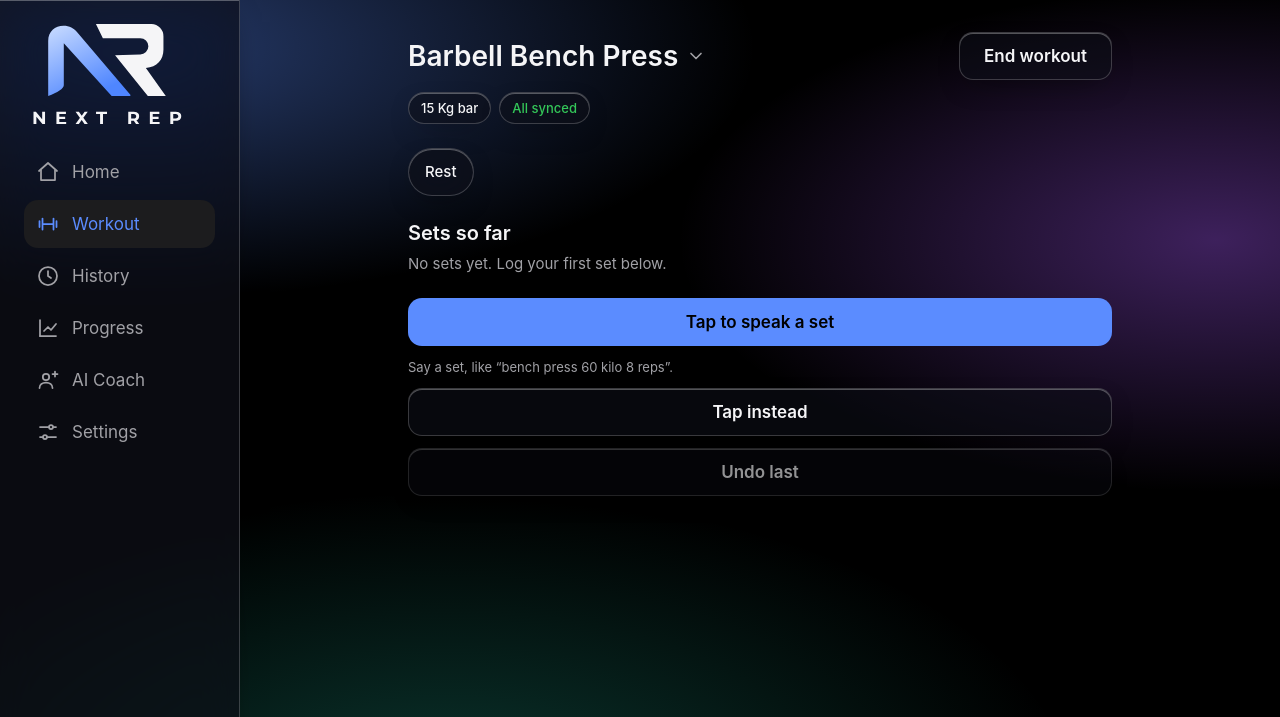
Test: a spoken set with a number missing › takes a typed weight, and offers no last weight when there is none
Click the button "Tap to speak a set" at point(760, 322), box [408, 298, 1112, 346]
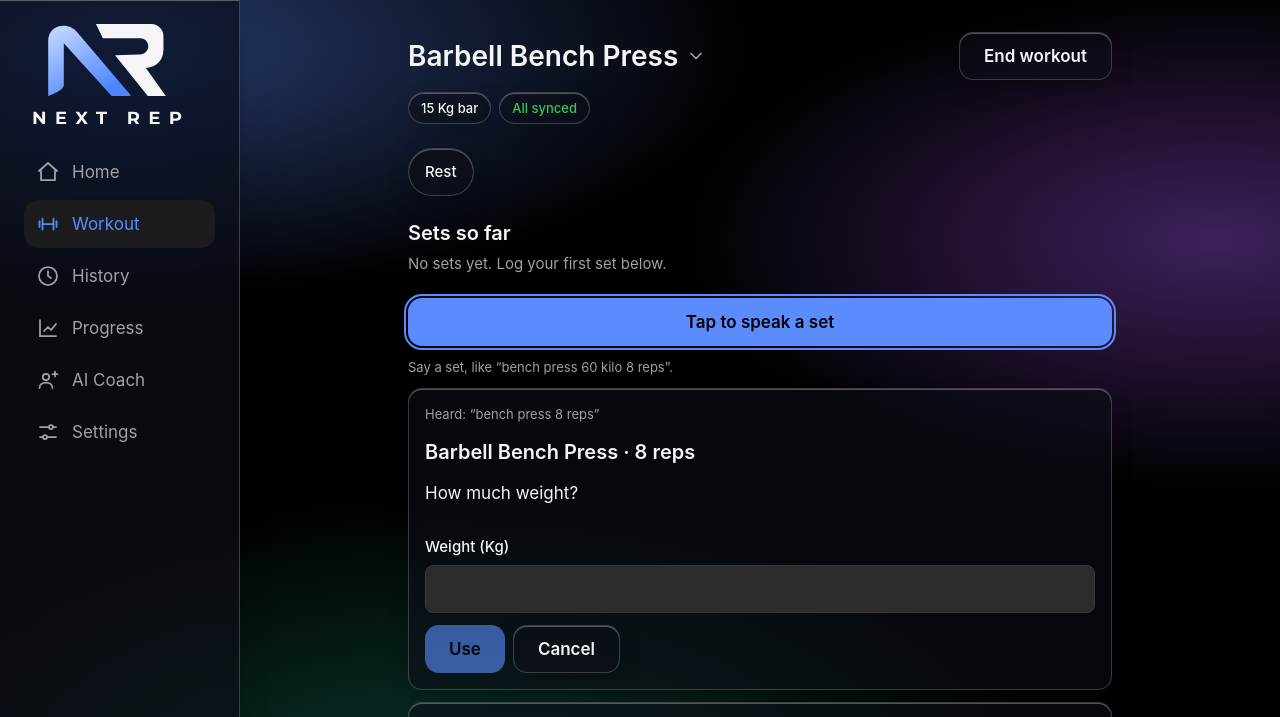
Type "heavy" into the field labelled "Weight (Kg)" at point(760, 589), box [425, 565, 1095, 613]
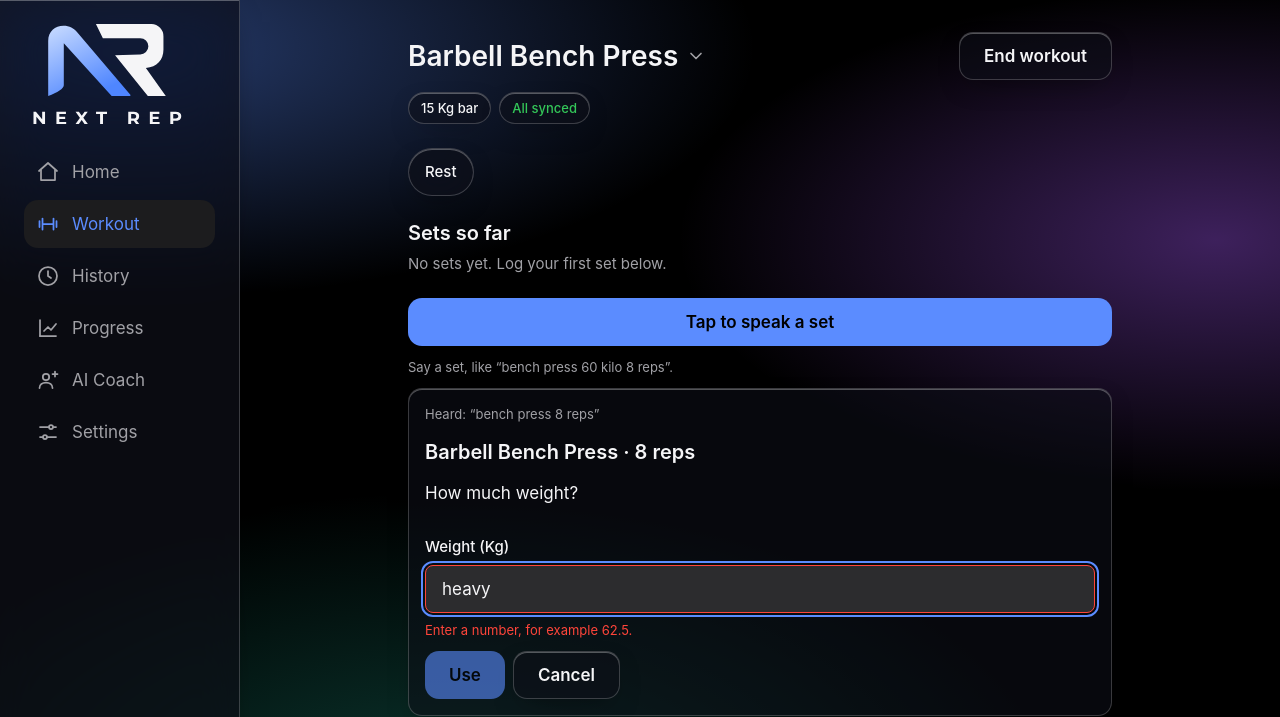
Check: the button "Use" is disabled, box [425, 651, 505, 699]
Replace the text in the field labelled "Weight (Kg)" with "62.5" at point(760, 589), box [425, 565, 1095, 613]
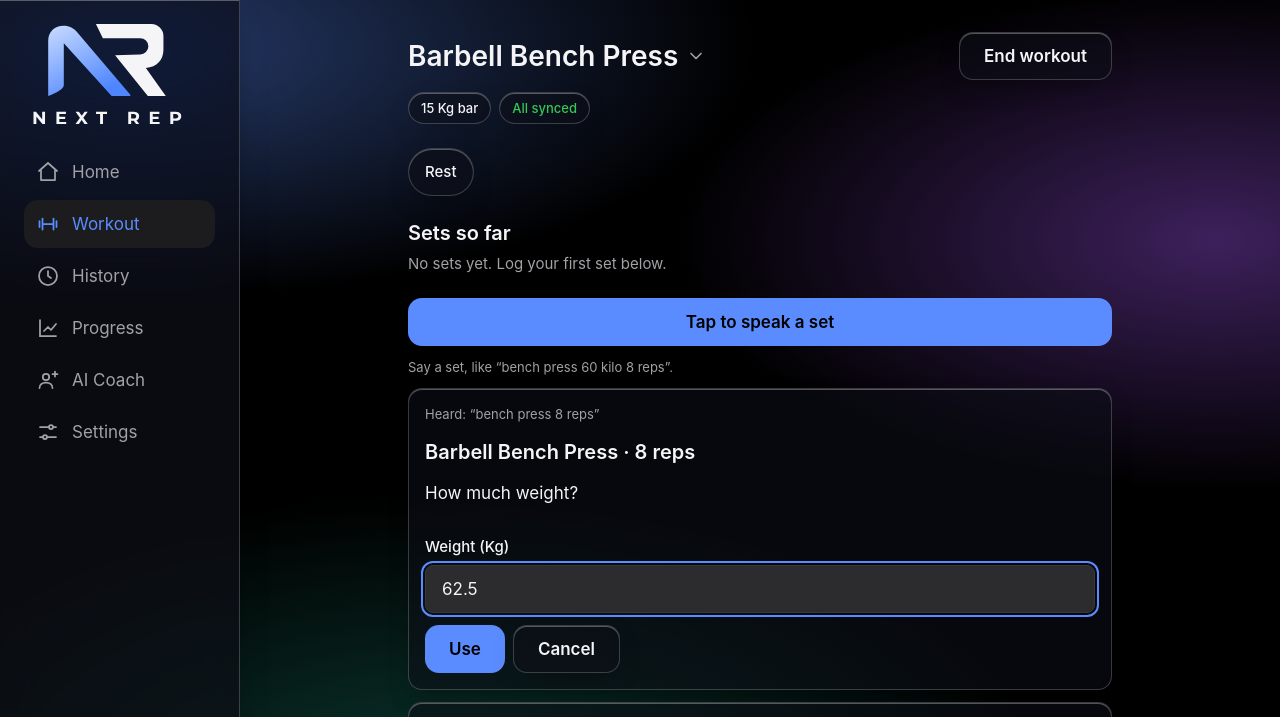
Click the button "Use" at point(465, 649), box [425, 625, 505, 673]
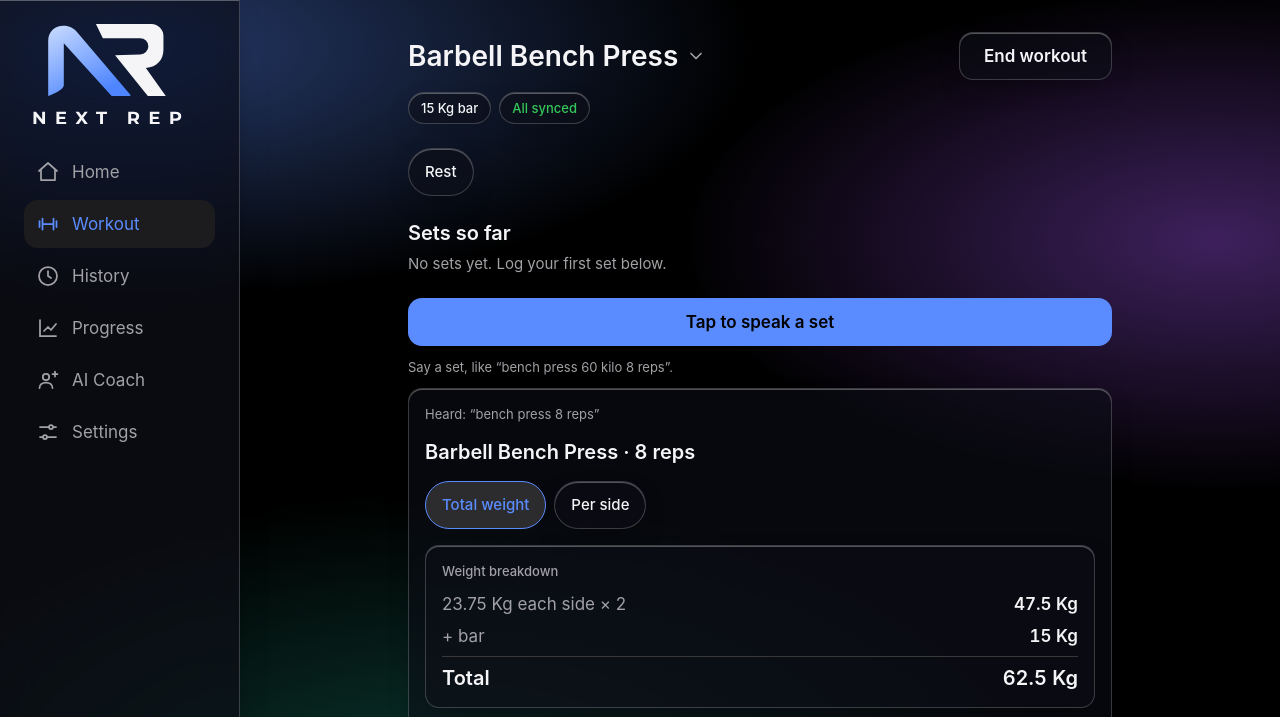
Check: the element "Weight breakdown" shows "62.5", box [1003, 666, 1078, 690]
